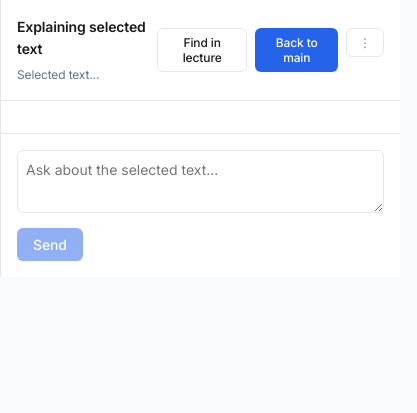
Test case: BranchPanel › sends message and receives response
In the text box with placeholder "Ask about the selected text...": (200, 181) [17,150,384,213], type "New question"
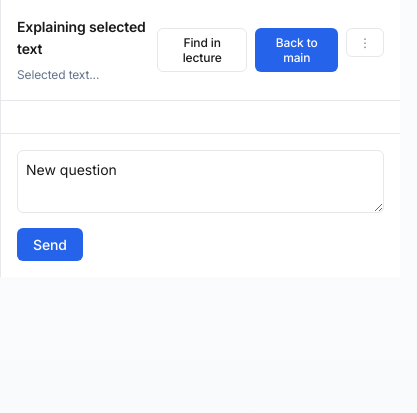
Click the button "Send": (50, 244) [17,228,83,261]
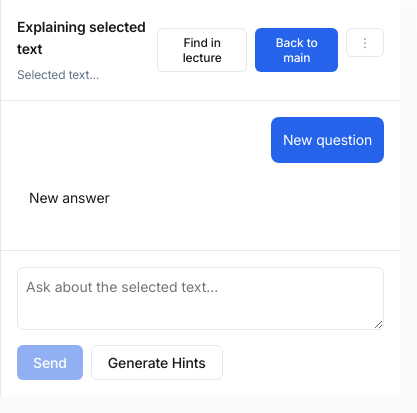
Now the text "New question" is shown, box [271,117,384,163]
Now the text "New answer" is shown, box [17,175,122,222]
